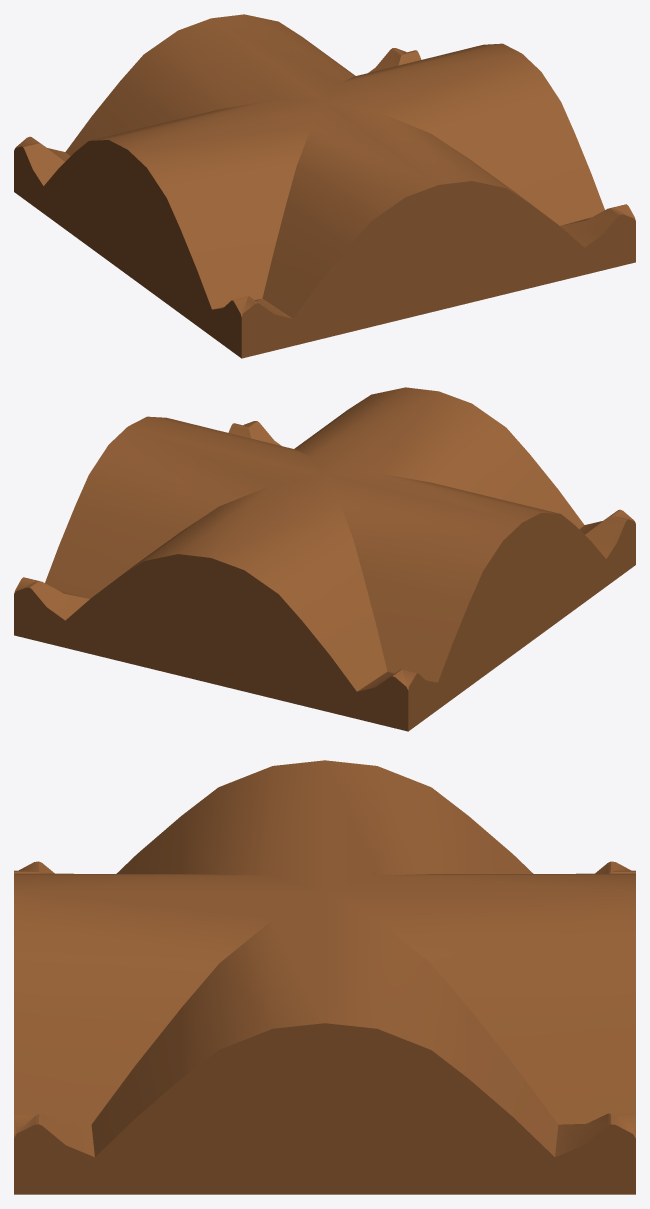
The model's file is 013_wall_deco_4_joins.glb.
3 renders of one model, top to bottom at view 1: azimuth 30°, elevation 25°; view 2: azimuth 150°, elevation 25°; view 3: azimuth 270°, elevation 25°, orthographic. The views are drawn at different scales.
Visible parts, largest first — view 1: Plane; view 2: Plane; view 3: Plane.
Boxes of the visible parts, x1,y1,x2,y2 form: Plane: (14, 14, 635, 358); Plane: (14, 387, 635, 731); Plane: (14, 760, 635, 1194).
Size of the model in its own units: 0.75 by 0.2282 by 0.75.
